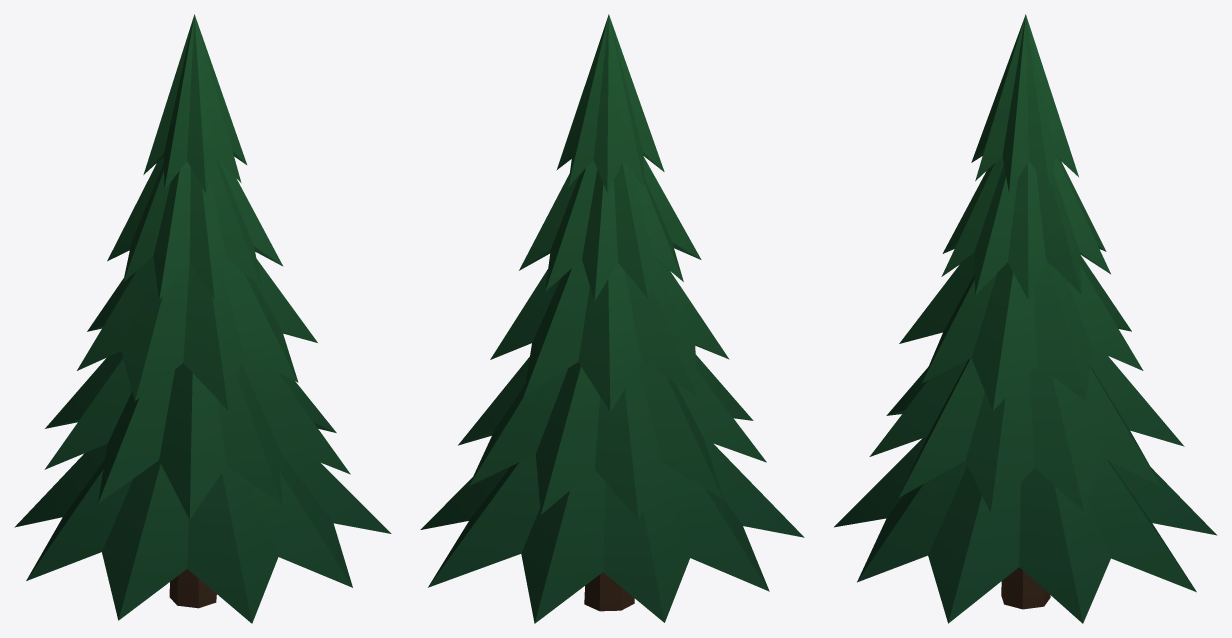
File: tree_pine_02.glb
The picture shows the model from 3 angles, left to right: view 1: azimuth 30°, elevation 25°; view 2: azimuth 150°, elevation 25°; view 3: azimuth 270°, elevation 25°; orthographic projection.
Visible parts, largest first — view 1: tree_pine_02_LOD0; view 2: tree_pine_02_LOD0; view 3: tree_pine_02_LOD0.
Part boxes in pixels (x1,y1,x2,y2): tree_pine_02_LOD0: (14, 14, 391, 623); tree_pine_02_LOD0: (420, 14, 804, 623); tree_pine_02_LOD0: (834, 14, 1217, 623).
Size of what is drawn, in the model's own units: 3.18 by 5.49 by 3.27.
1 material, 1 textured.
